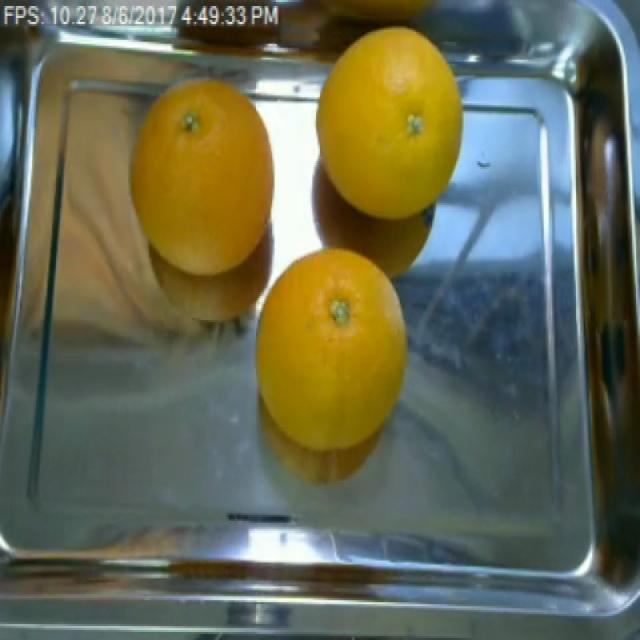Fruit: (239, 320, 401, 497)
